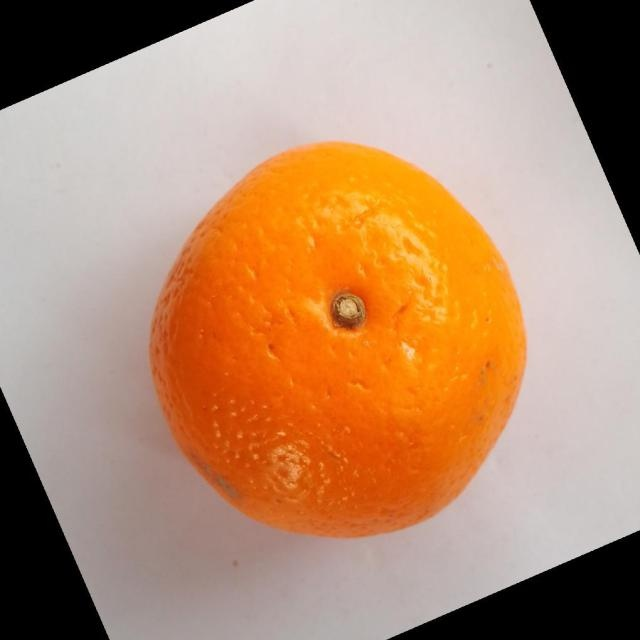agrume: (148, 139, 528, 539)
